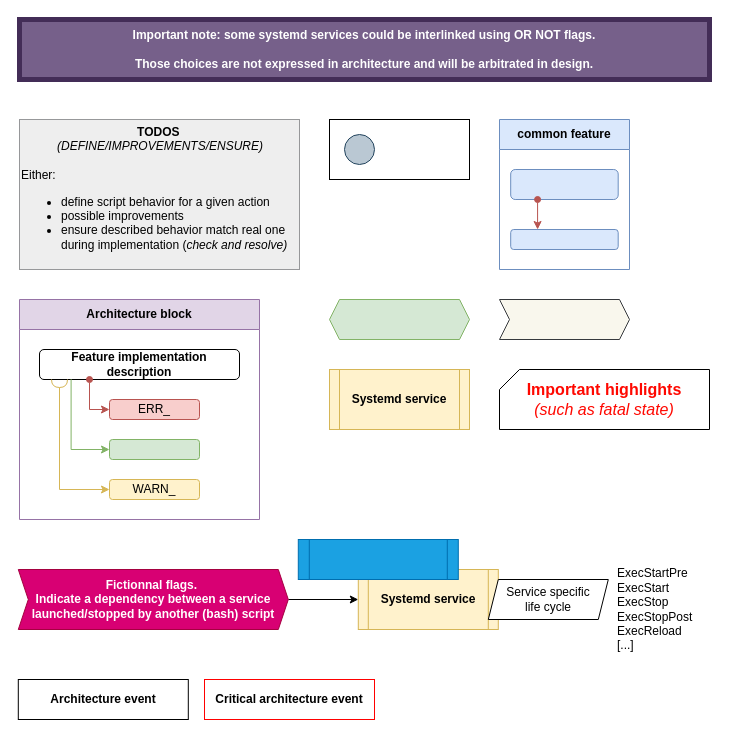
The diagram is 729 pixels wide and 737 high, and some of its shapes have lost their labels. Here are the shapes that lost their labels. From the top down, the box of each, then its label:
(328, 118, 470, 180): Script starting or ending point
(510, 168, 618, 200): check sudo
(510, 228, 618, 250): ERR_SUDO
(328, 298, 470, 340): HW event udev/udevman
(498, 298, 630, 340): FLAG shared events
(108, 438, 200, 460): ERR_OK
(297, 538, 458, 580): Systemd service XX strong dependency
